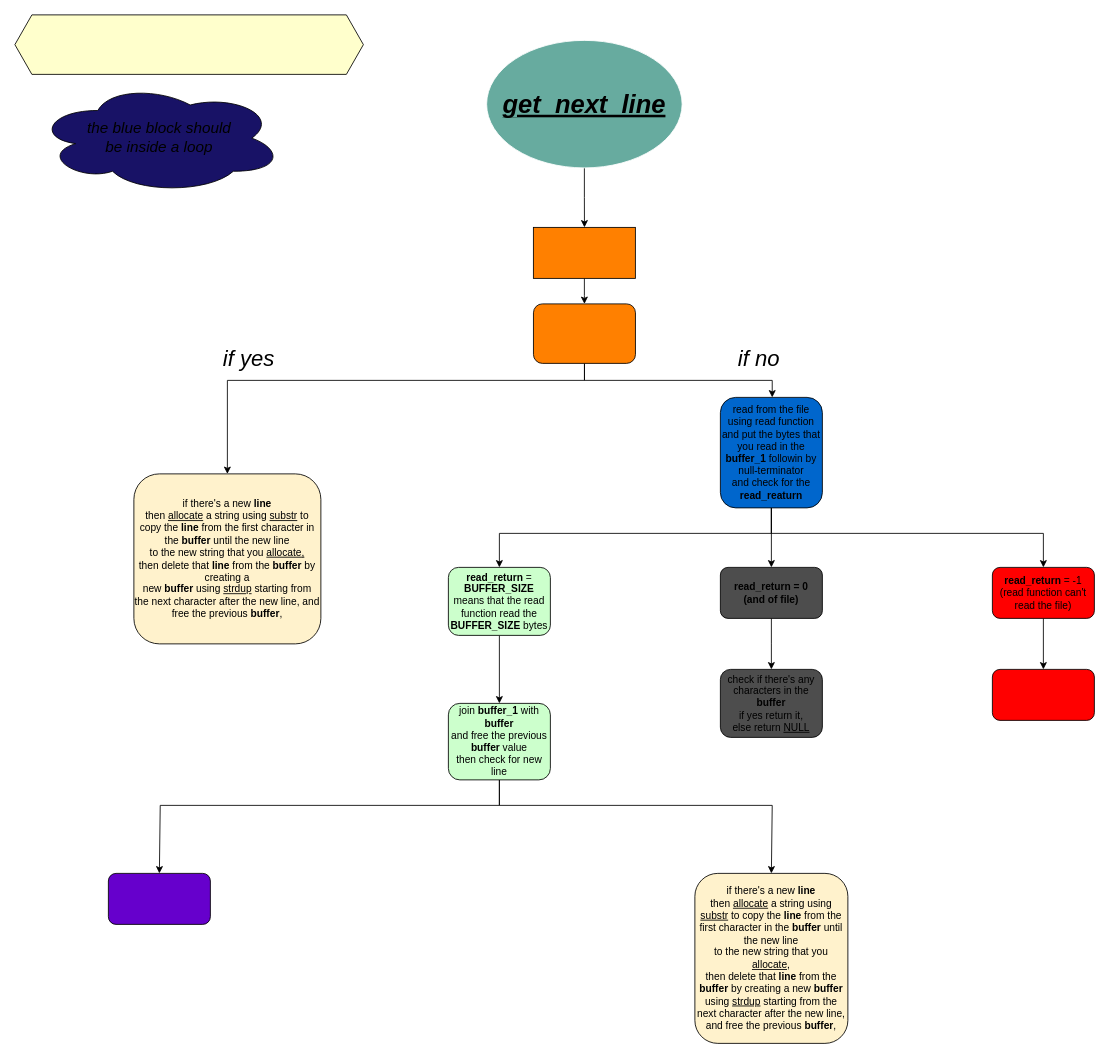
The diagram is 1109 pixels wide and 1058 high, and some of its shapes have lost their labels. Each missing label, with the centre of its shape:
"check the buffer if contains a new line for the second time we call the function" belongs at (584,333).
"free all the allocated memory in the heap and return NULL" belongs at (1043,694).
"if the buffer does'nt contain any new line then repet from the blue block" belongs at (159,898).
"prototype : char *get_next_line(int fd);" belongs at (188,44).
"send the fd to the function" belongs at (584,252).
